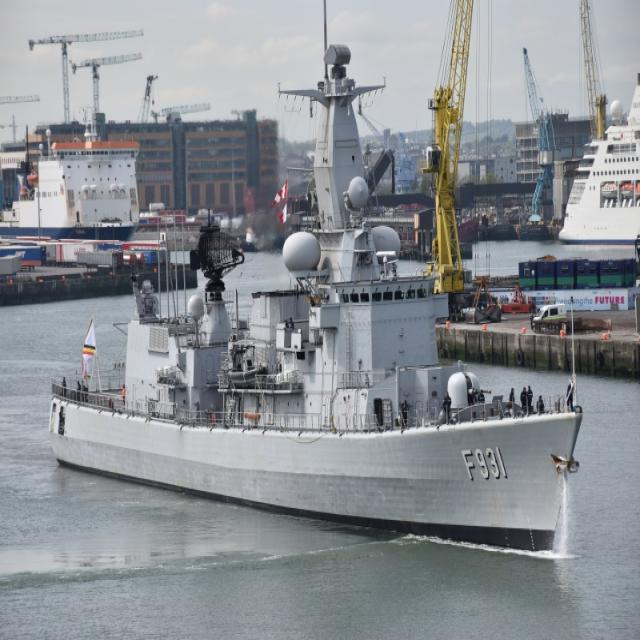Fragata: (46, 189, 587, 578)
